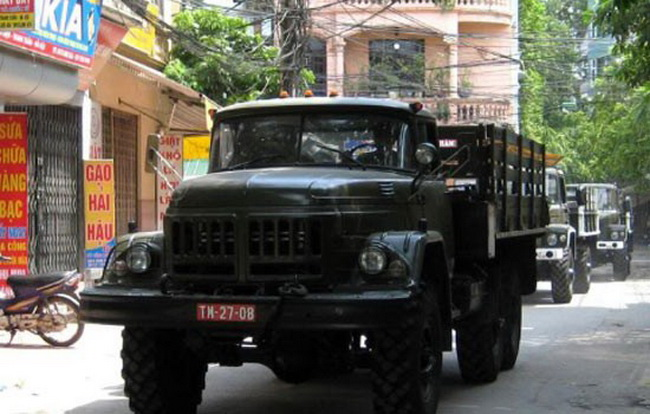plate: (192, 299, 257, 323)
